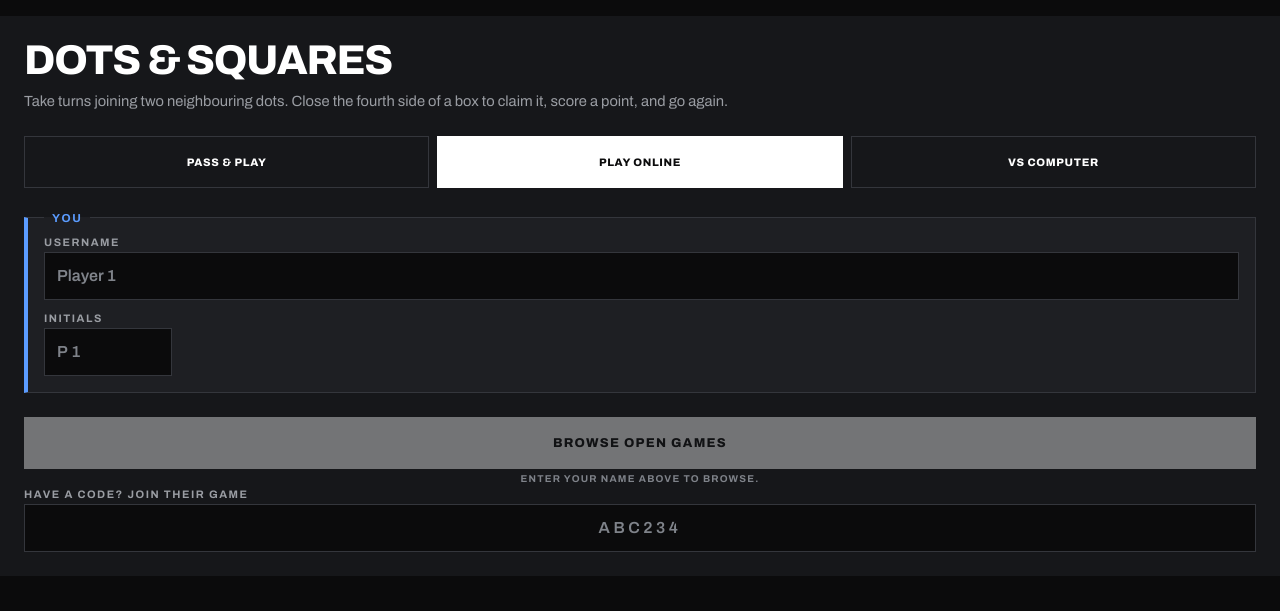
Test: BUG-002 — a code containing a character codes never use › names the offending characters, not just the rule
This screenshot has width=1280, height=611.
Type "O0IL11" into the field labelled "Have a code? Join their game".
click(640, 528); type("O0IL11")  # box x1=24 y1=504 x2=1256 y2=552
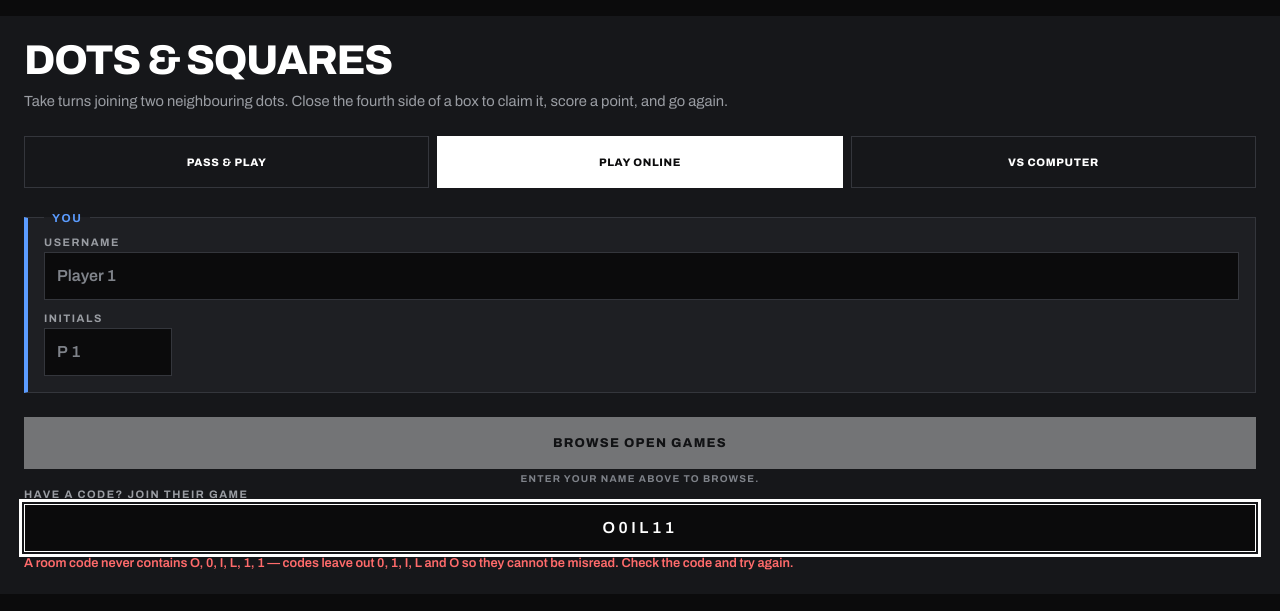
Expected: the message shows "O, 0, I, L, 1, 1", x1=190 y1=556 x2=265 y2=570
